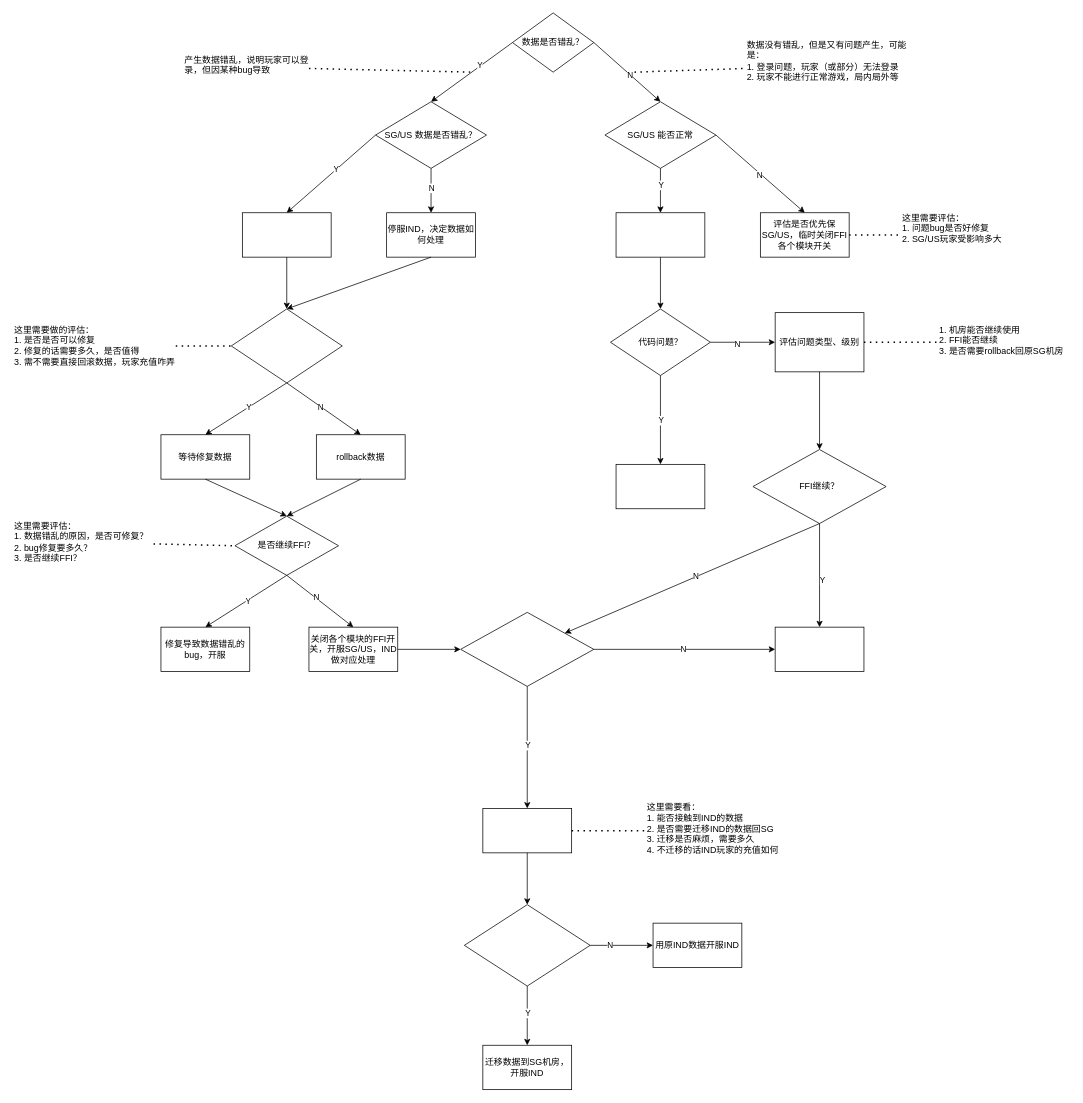
Some shapes in this 1083 by 1103 pixel diagram are drawn without their labels. Each missing label, with the centre of its shape:
"FFI是否要迁回SG机房？" goes at point 527,649.
"专注IND，解决IND问题" goes at point 660,234.
"修复bug，上线" goes at point 660,486.
"停服，决定数据如何处理" goes at point 286,234.
"寻求问题解决方案，上线" goes at point 819,649.
"是否修复数据？" goes at point 286,345.
"评估FFI数据是否需要" goes at point 527,830.
"需要FFI数据" goes at point 527,945.
